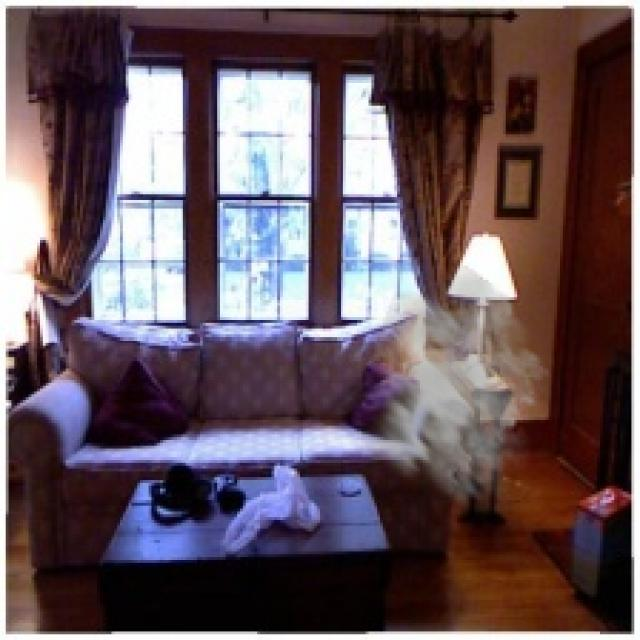smoke: (340, 254, 551, 517)
